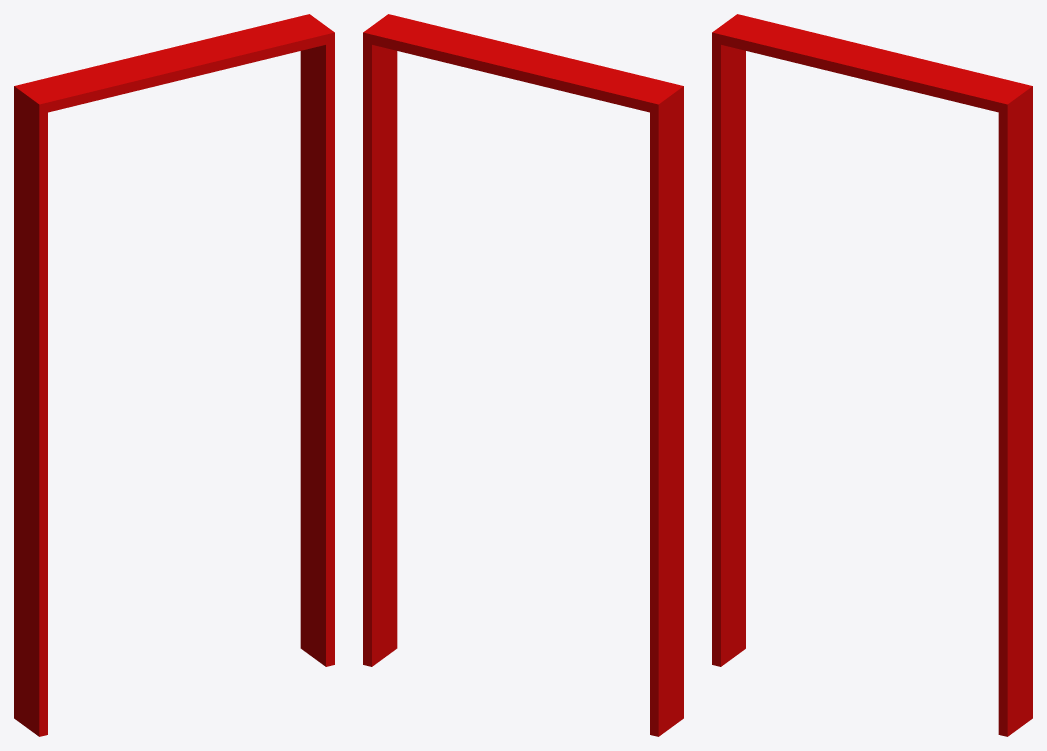
3 views of the same model, side by side, from view 1: azimuth 30°, elevation 25°; view 2: azimuth 150°, elevation 25°; view 3: azimuth 330°, elevation 25° (orthographic).
Visible parts, largest first — view 1: polySurface236; view 2: polySurface236; view 3: polySurface236.
Part boxes in pixels (x1,y1,x2,y2): polySurface236: [14, 14, 334, 736]; polySurface236: [363, 14, 683, 736]; polySurface236: [712, 14, 1032, 736].
Size of the model in its own units: 151 by 309 by 22.37.
